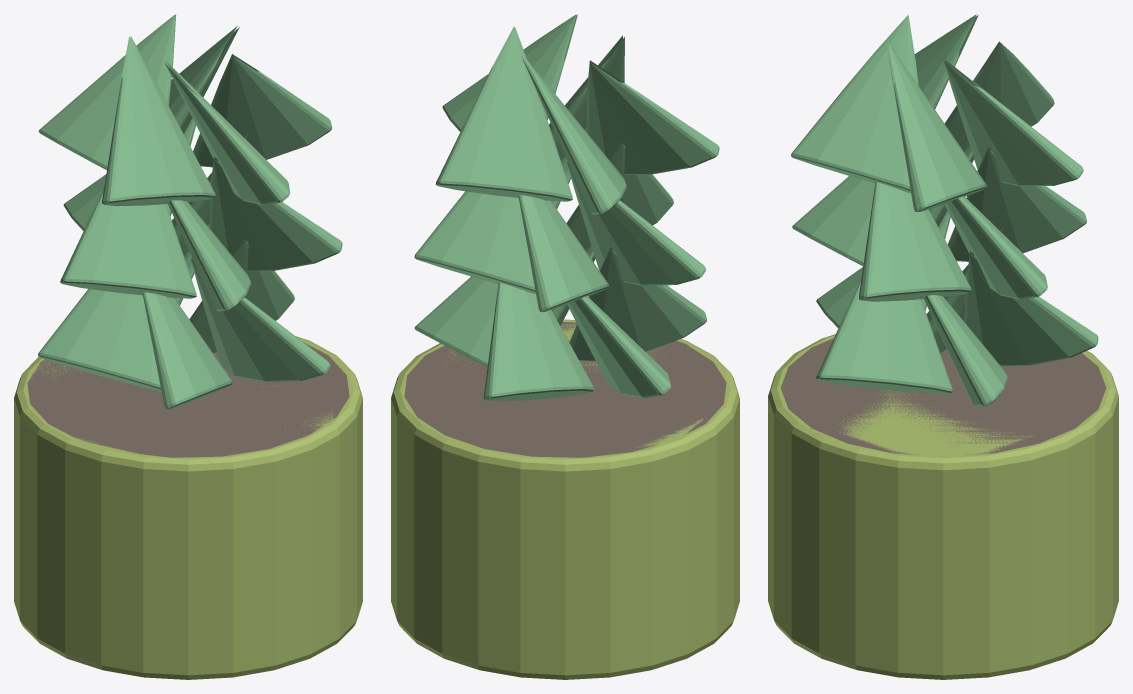
Rendered from isometric_modern_office_kit_19.glb.
The picture shows the model from 3 angles, left to right: view 1: azimuth 30°, elevation 25°; view 2: azimuth 150°, elevation 25°; view 3: azimuth 270°, elevation 25°; orthographic projection.
Parts seen in each view (by area): view 1: Cylinder; view 2: Cylinder; view 3: Cylinder.
Part boxes in pixels (<box>): Cylinder: <box>14,14,362,679</box>; Cylinder: <box>391,14,739,679</box>; Cylinder: <box>768,14,1118,679</box>.
Bounding box in the file's own units: 0.546 × 0.9875 × 0.546.
